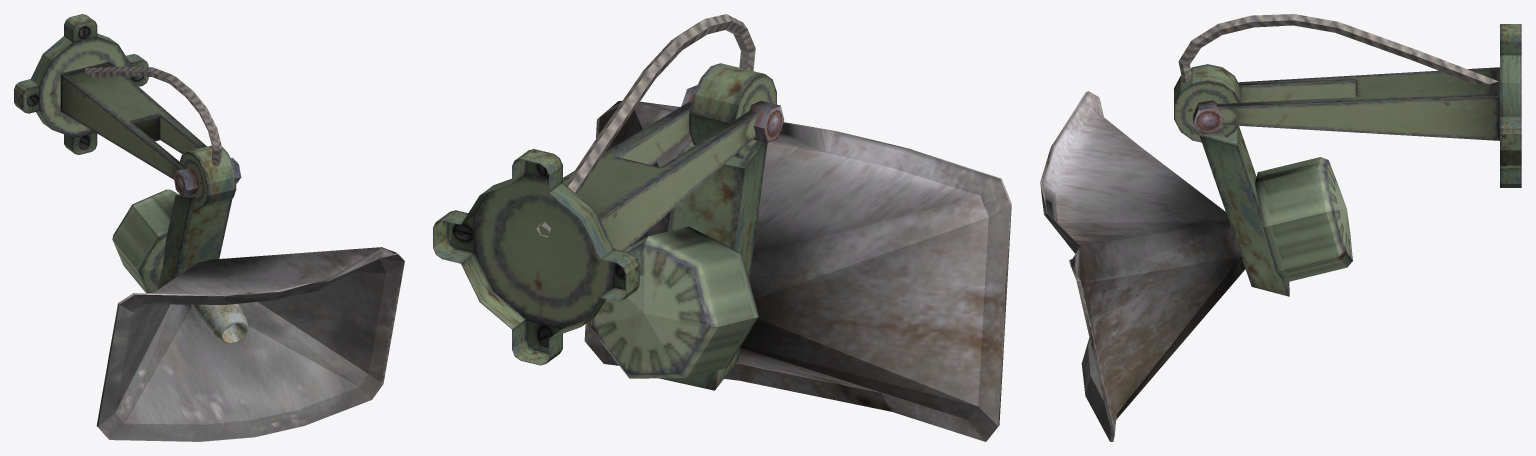
File: speaker.fbx
3 views of the same model, side by side, from view 1: azimuth 30°, elevation 25°; view 2: azimuth 150°, elevation 25°; view 3: azimuth 270°, elevation 25° (orthographic). The views are drawn at different scales.
Parts seen in each view (by area): view 1: Speaker:UCX_Tannoy_Speaker_Many, speakerItem; view 2: Speaker:UCX_Tannoy_Speaker_Many; view 3: Speaker:UCX_Tannoy_Speaker_Many.
Part boxes in pixels (left/top/right/bottom): Speaker:UCX_Tannoy_Speaker_Many: left=14, top=14, right=404, bottom=441; speakerItem: left=191, top=303, right=248, bottom=343; Speaker:UCX_Tannoy_Speaker_Many: left=433, top=14, right=1011, bottom=441; Speaker:UCX_Tannoy_Speaker_Many: left=1040, top=14, right=1521, bottom=441.
Size of the model in its own units: 66.59 by 66.96 by 82.04.
Materials: 2 (2 with a texture image).
